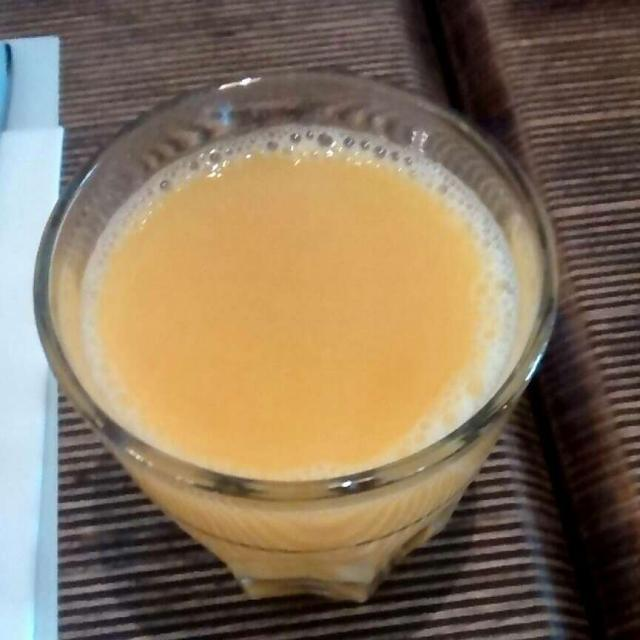juice: (91, 143, 510, 465)
